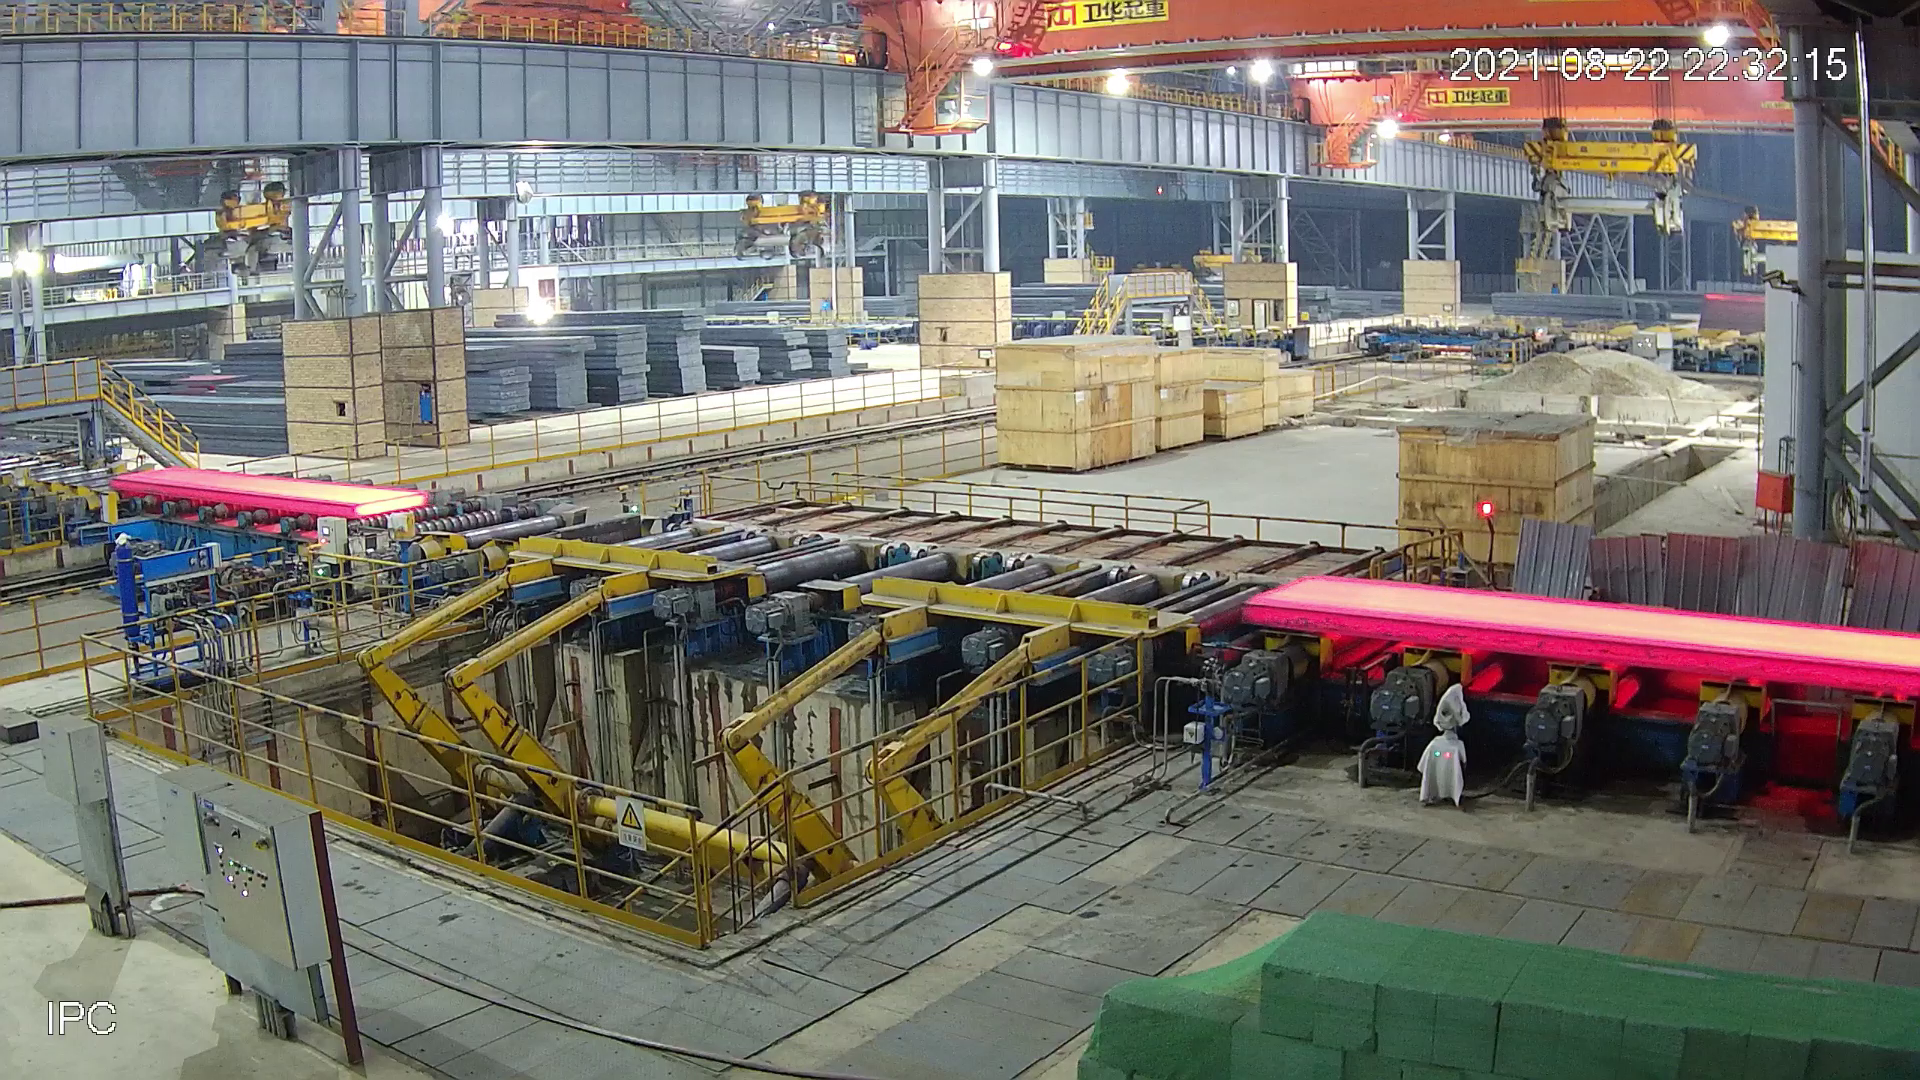slab: (1241, 574, 1920, 696), (108, 465, 427, 518)
